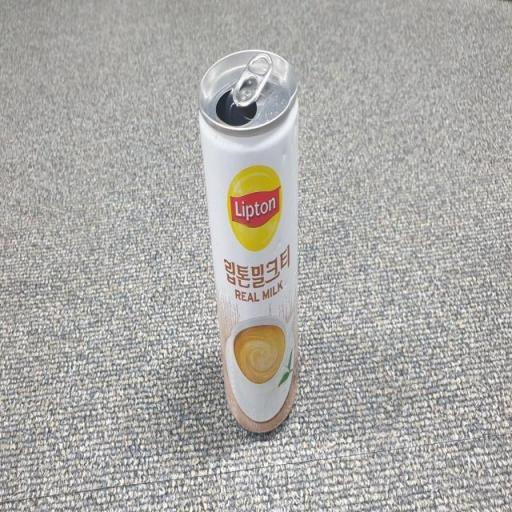metal: (187, 34, 320, 466)
